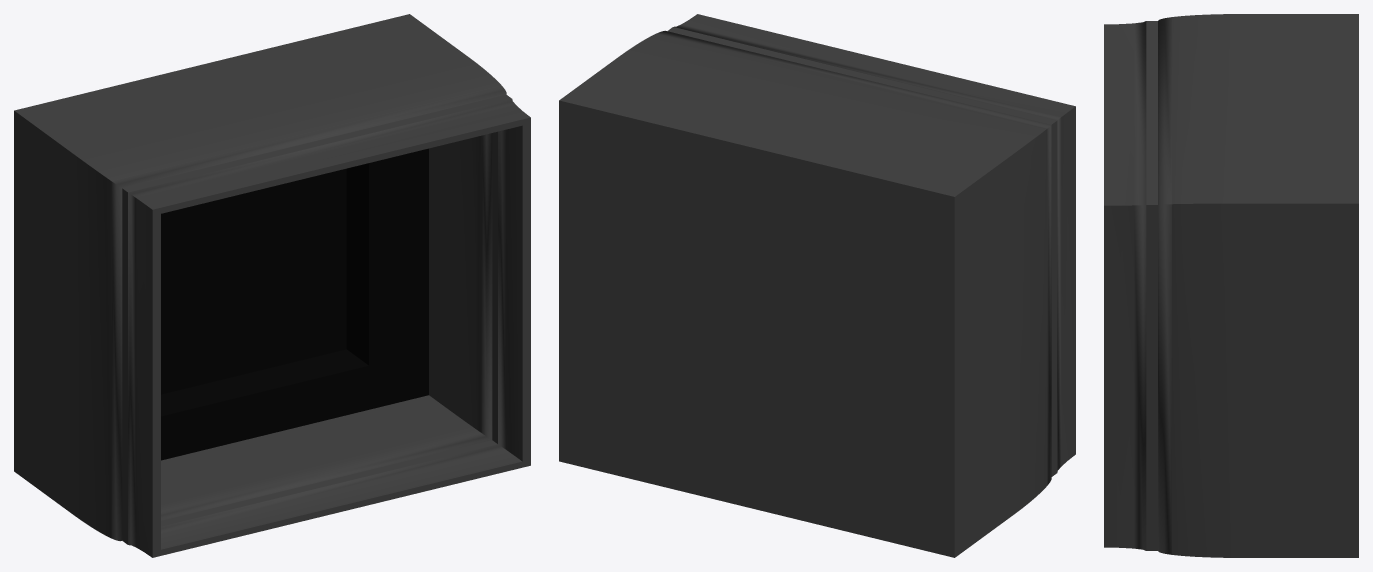
Rendered from Frame9.glb.
The picture shows the model from 3 angles, left to right: view 1: azimuth 30°, elevation 25°; view 2: azimuth 150°, elevation 25°; view 3: azimuth 270°, elevation 25°; orthographic projection.
Visible parts, largest first — view 1: Empty, A_PaintingMesh; view 2: Empty; view 3: Empty.
Part boxes in pixels (x1,y1,x2,y2): Empty: [14, 14, 530, 557]; A_PaintingMesh: [161, 168, 346, 394]; Empty: [559, 14, 1075, 557]; Empty: [1104, 14, 1358, 557].
Bounding box in the file's own units: 1.76 × 1.54 × 1.
Materials: 4 (1 with a texture image).
